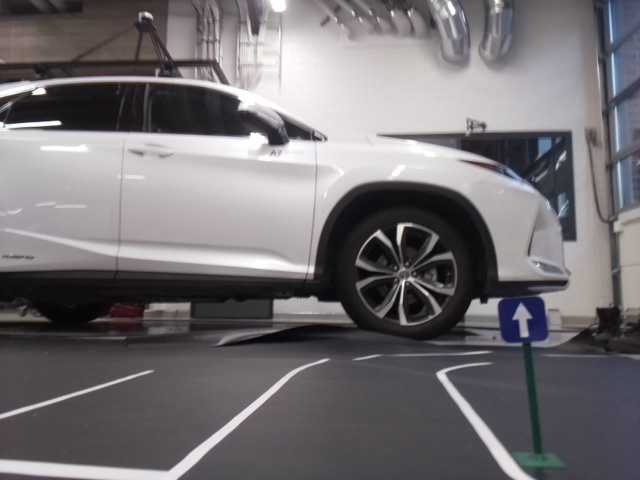OneWay: (499, 302, 545, 340)
